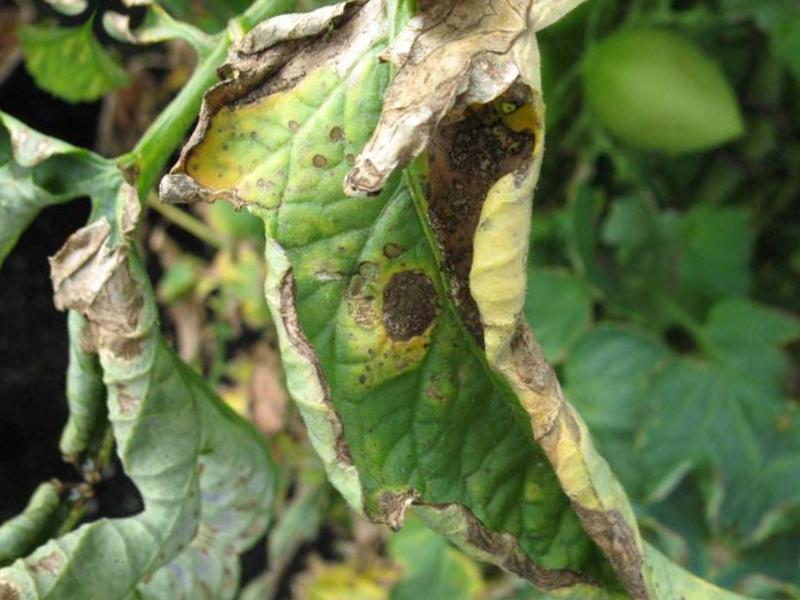Tomato Early blight leaf: (66, 0, 800, 600)
